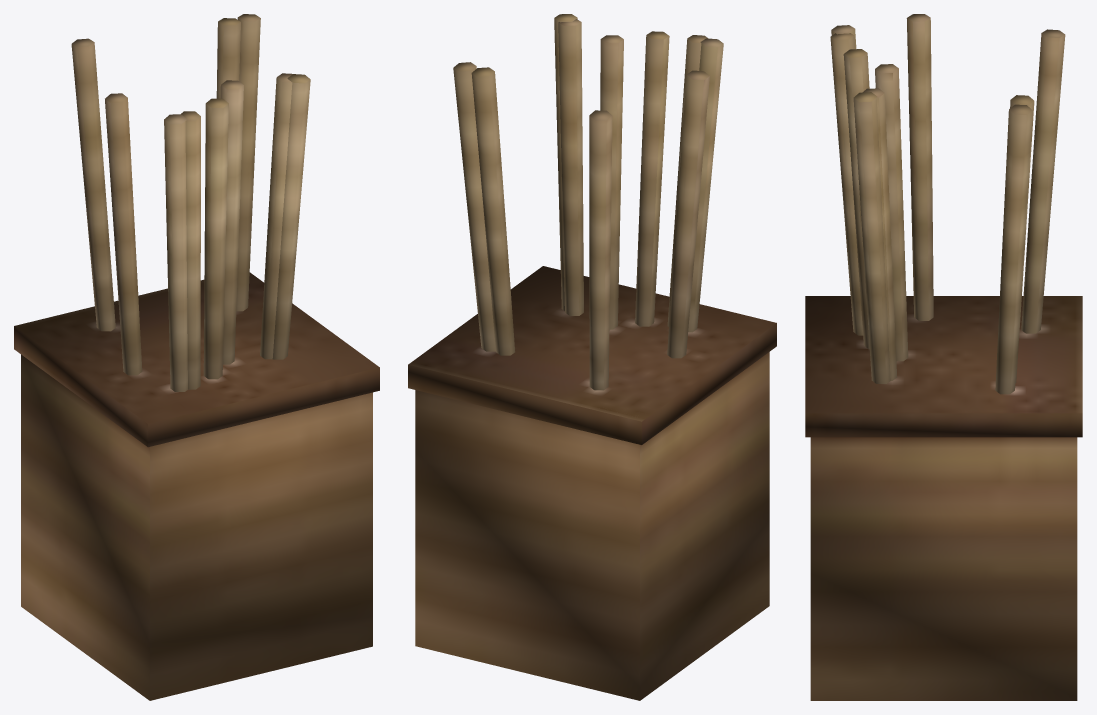
File: chopstick_box.glb
The picture shows the model from 3 angles, left to right: view 1: azimuth 30°, elevation 25°; view 2: azimuth 150°, elevation 25°; view 3: azimuth 270°, elevation 25°; orthographic projection. The views are drawn at different scales.
Visible parts, largest first — view 1: prop_chopstick_box_wood; view 2: prop_chopstick_box_wood; view 3: prop_chopstick_box_wood.
Part boxes in pixels (bbox=[...]): prop_chopstick_box_wood: bbox=[14, 14, 379, 700]; prop_chopstick_box_wood: bbox=[408, 14, 776, 700]; prop_chopstick_box_wood: bbox=[805, 14, 1082, 700].
Size of the model in its own units: 0.208 by 0.4808 by 0.208.
1 material, 1 textured.
